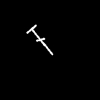double_crochet: (27, 25, 52, 54)
